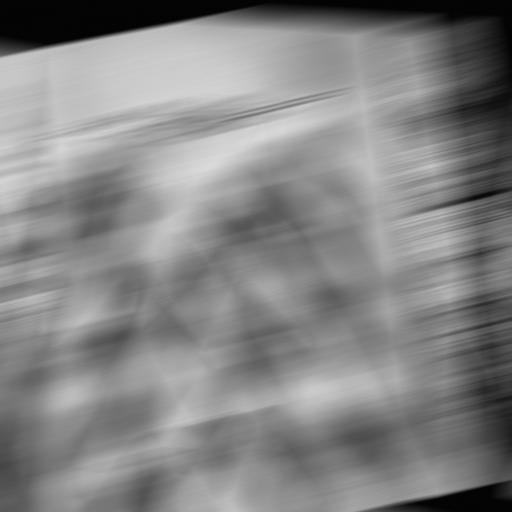envelop: (33, 88, 381, 512)
